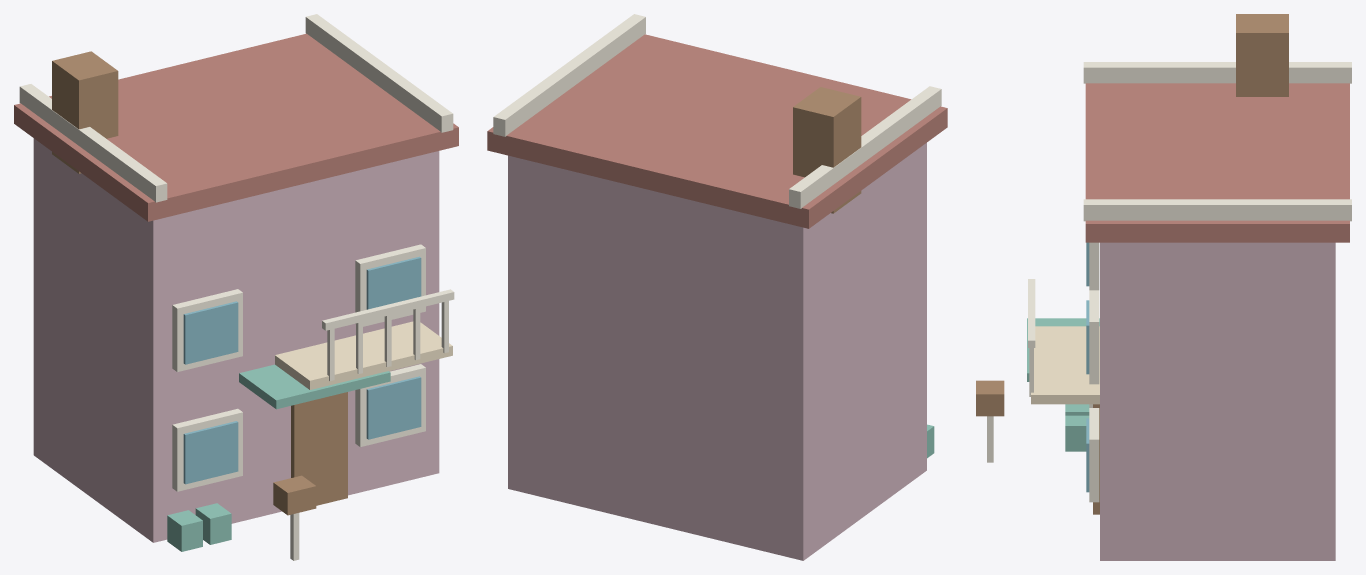
File: home-10.glb
3 views of the same model, side by side, from view 1: azimuth 30°, elevation 25°; view 2: azimuth 150°, elevation 25°; view 3: azimuth 270°, elevation 25° (orthographic). The views are drawn at different scales.
Visible parts, largest first — view 1: individual walls.008, flat parapet roof.002, balcony baluster.003, front door.010, window pane.005, balcony deck, entrance awning.002; view 2: individual walls.008, flat parapet roof.002, balcony baluster.003, front door.010; view 3: individual walls.008, flat parapet roof.002, balcony baluster.003, front door.010, balcony deck, entrance awning.002, window pane.005.
Boxes of the visible parts, x1,y1,x2,y2 form: individual walls.008: (33,138,439,542); flat parapet roof.002: (14,33,458,221); balcony baluster.003: (19,14,454,560); front door.010: (52,51,347,515); window pane.005: (183,256,421,484); balcony deck: (275,321,452,389); entrance awning.002: (167,364,390,551); individual walls.008: (508,143,926,560); flat parapet roof.002: (487,34,947,228); balcony baluster.003: (493,14,941,208); front door.010: (793,87,861,213); individual walls.008: (1100,242,1335,560); flat parapet roof.002: (1085,83,1349,242); balcony baluster.003: (987,62,1351,502); front door.010: (976,14,1288,514); balcony deck: (1031,326,1099,404); entrance awning.002: (1027,318,1099,451); window pane.005: (1086,242,1089,492).
Bounding box in the file's own units: 4.35 × 5.53 × 4.62.
